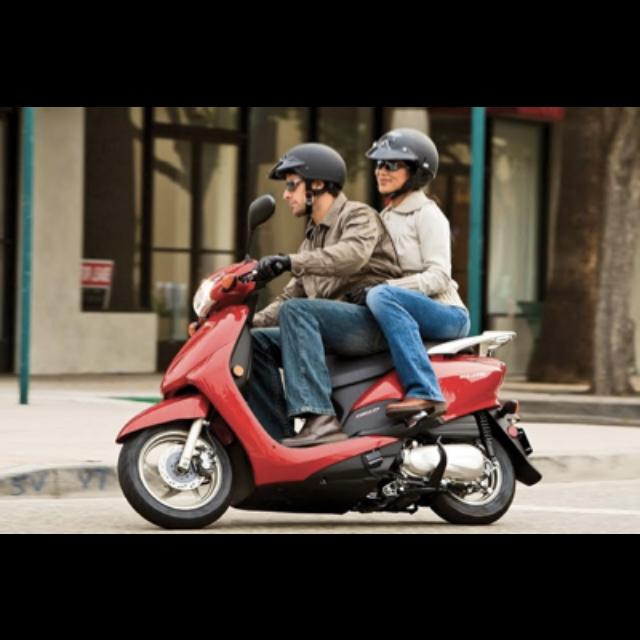With Helmet: (262, 132, 350, 218)
